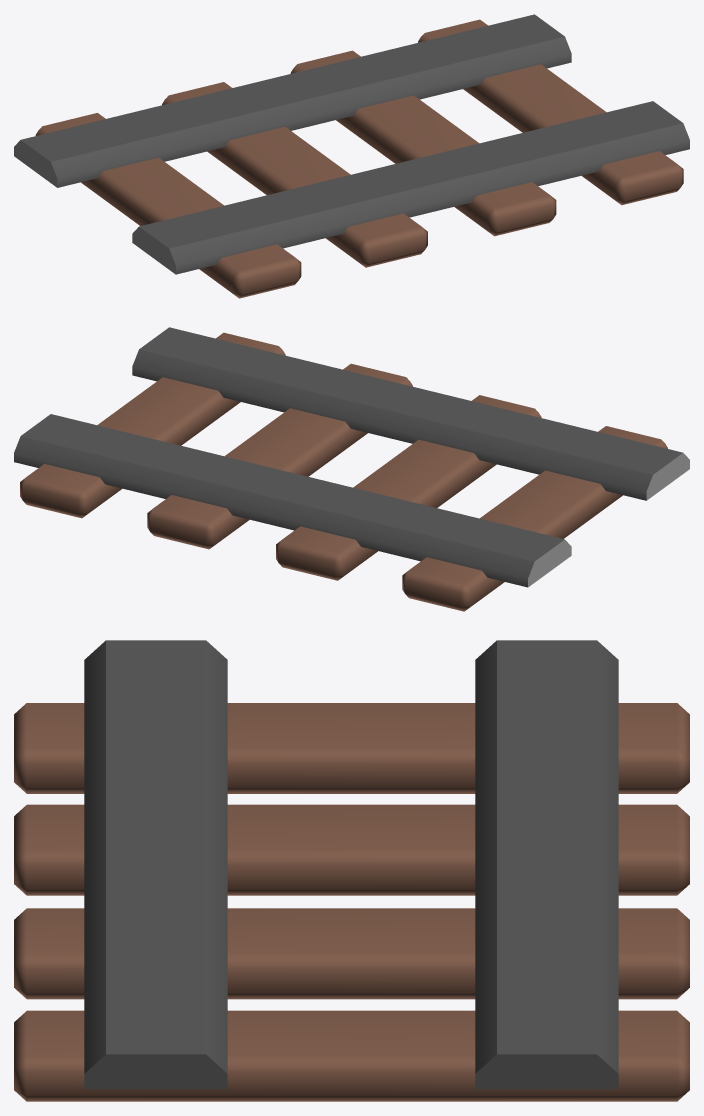
Rendered from TrainRoad.fbx.
3 renders of one model, top to bottom at view 1: azimuth 30°, elevation 25°; view 2: azimuth 150°, elevation 25°; view 3: azimuth 270°, elevation 25°, orthographic. The views are drawn at different scales.
Parts seen in each view (by area): view 1: Train_Road; view 2: Train_Road; view 3: Train_Road.
Boxes of the visible parts, x1,y1,x2,y2 form: Train_Road: [14, 14, 689, 298]; Train_Road: [14, 327, 689, 611]; Train_Road: [14, 640, 689, 1101].
Size of the model in its own units: 786 by 63.73 by 542.
